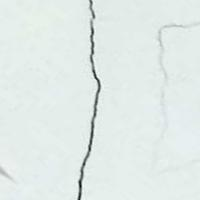crack: (71, 0, 114, 199)
